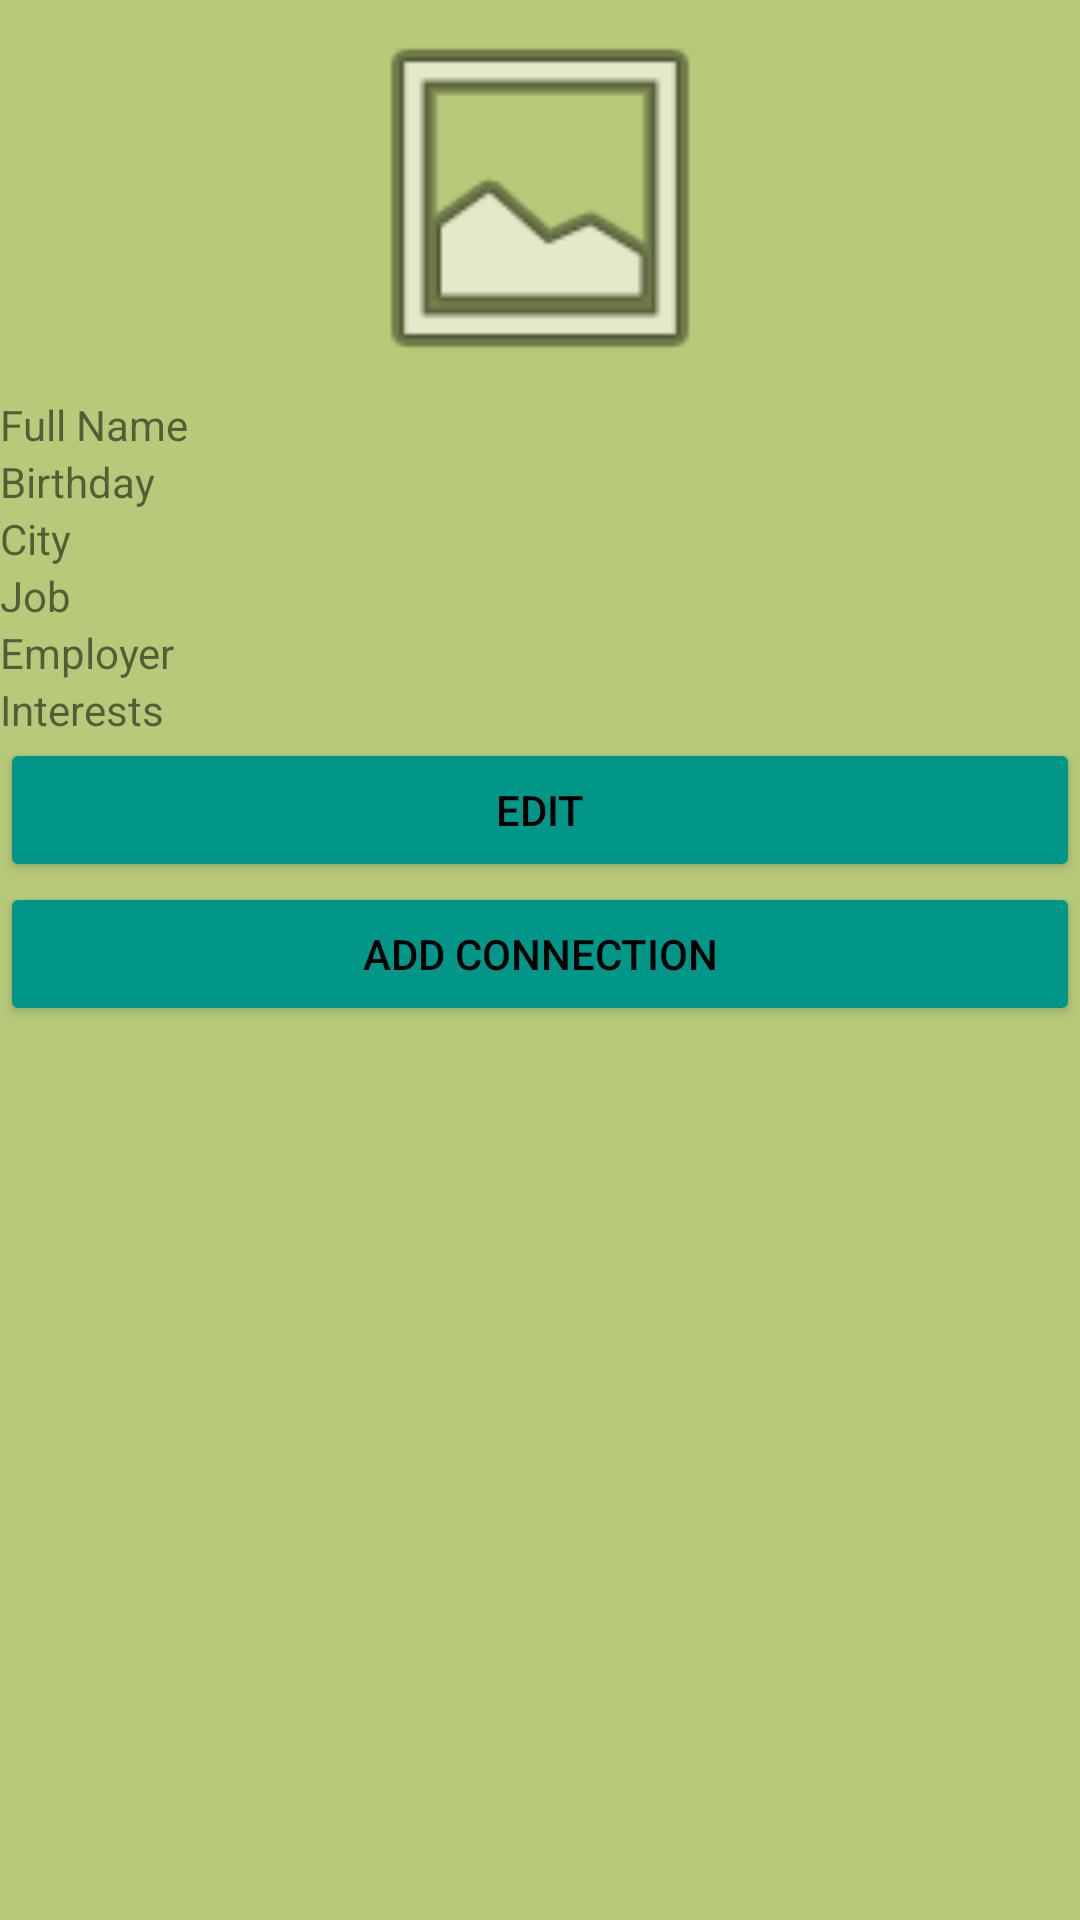

Icons on this 1080px x 1920px Android screen, each with its box as (x1, y1, x2, y2):
gallery: (391, 49, 689, 347)
